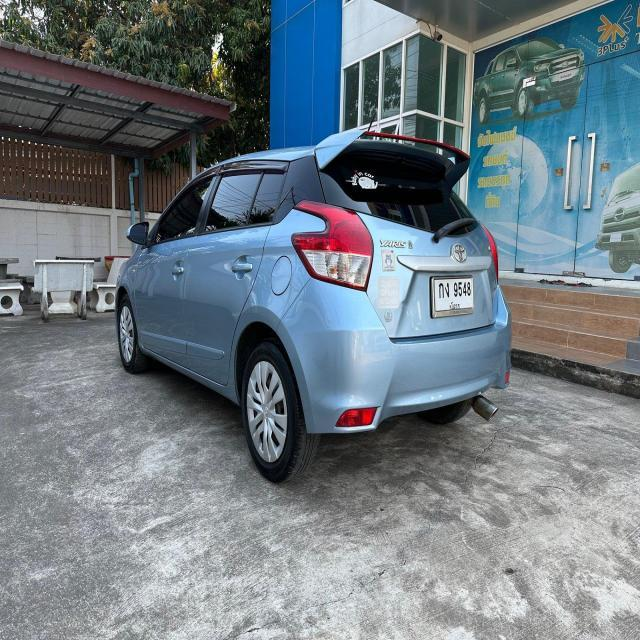Hatchback: (114, 130, 511, 482)
